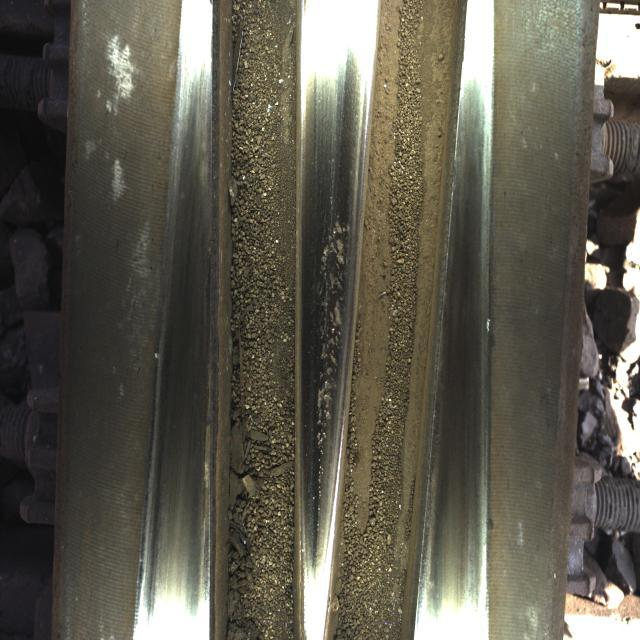scar: (305, 145, 349, 507)
